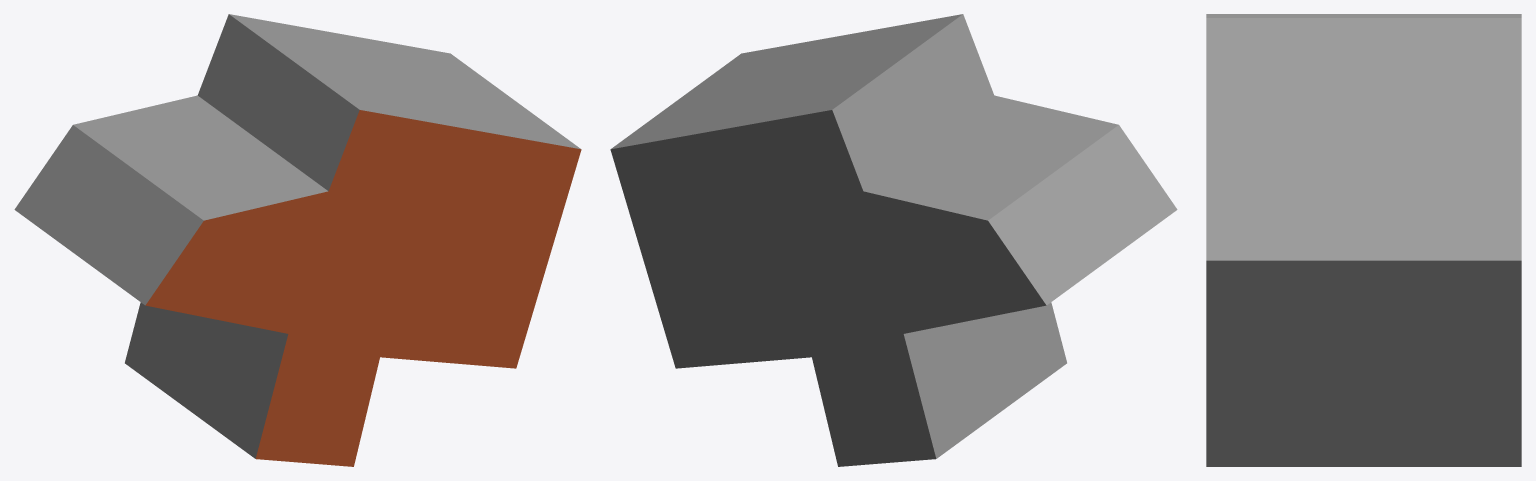
The model's file is construction_7150_assumed_A_Ruinas_h6m.obj.
3 renders of one model, left to right at view 1: azimuth 30°, elevation 25°; view 2: azimuth 150°, elevation 25°; view 3: azimuth 270°, elevation 25°, orthographic. The views are drawn at different scales.
Visible parts, largest first — view 1: construction_7150_assumed_A_Ruinas; view 2: construction_7150_assumed_A_Ruinas; view 3: construction_7150_assumed_A_Ruinas.
Boxes of the visible parts, x1,y1,x2,y2 form: construction_7150_assumed_A_Ruinas: (14, 14, 581, 466); construction_7150_assumed_A_Ruinas: (610, 14, 1177, 466); construction_7150_assumed_A_Ruinas: (1206, 14, 1521, 466).
Bounding box in the file's own units: 11.54 × 8.99 × 6.
